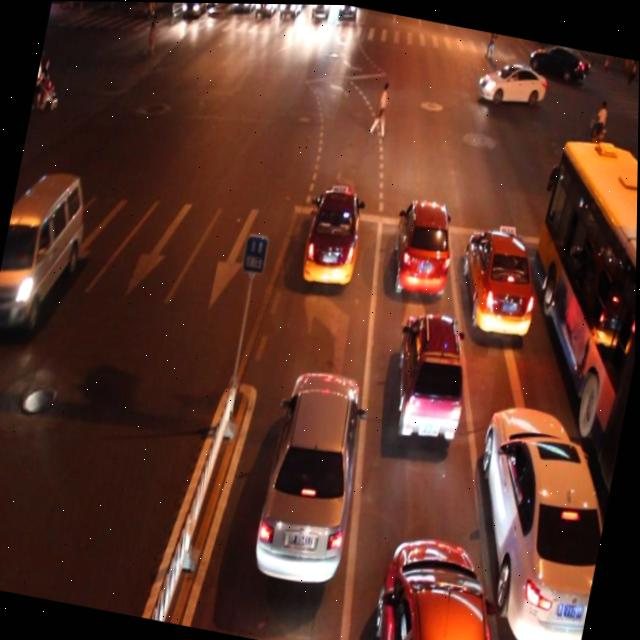car: (446, 397, 623, 640), (249, 358, 376, 592), (0, 159, 95, 347), (367, 523, 519, 640), (382, 302, 479, 447), (452, 218, 546, 346), (383, 191, 461, 302), (297, 176, 369, 293), (473, 53, 549, 110)
van: (490, 130, 639, 517)
